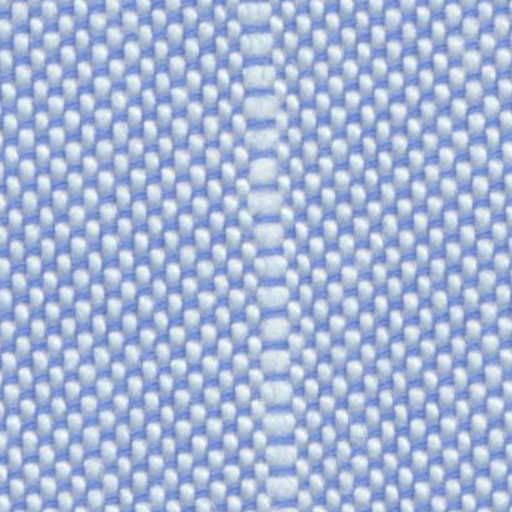TuoSha: (212, 10, 336, 495)
